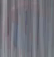No waiting: (5, 1, 52, 56)
